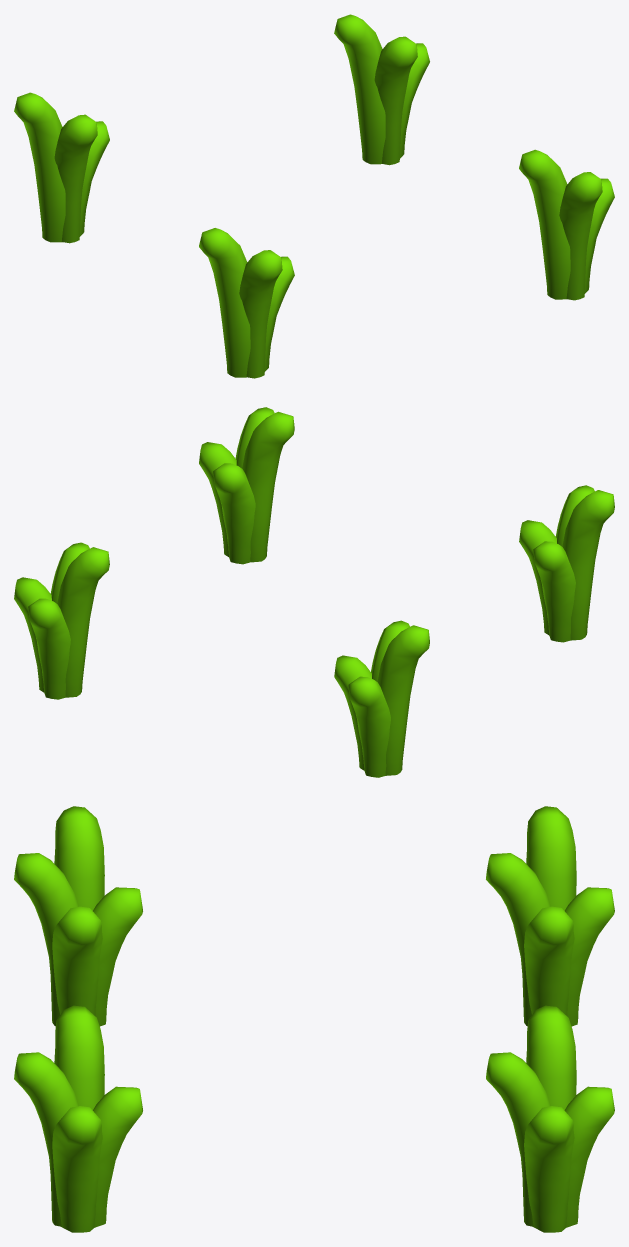
The model's file is Farm_Crop_Onion_Step_01.fbx.
The picture shows the model from 3 angles, top to bottom: view 1: azimuth 30°, elevation 25°; view 2: azimuth 150°, elevation 25°; view 3: azimuth 270°, elevation 25°; orthographic projection. The views are drawn at different scales.
Visible parts, largest first — view 1: Farm_Crop_Onion_Step_01; view 2: Farm_Crop_Onion_Step_01; view 3: Farm_Crop_Onion_Step_01.
Boxes of the visible parts, left/top/right/bottom form: Farm_Crop_Onion_Step_01: left=14, top=14, right=614, bottom=378; Farm_Crop_Onion_Step_01: left=14, top=407, right=614, bottom=777; Farm_Crop_Onion_Step_01: left=14, top=806, right=614, bottom=1232.
Size of the model in its own units: 128 by 44.34 by 127.
